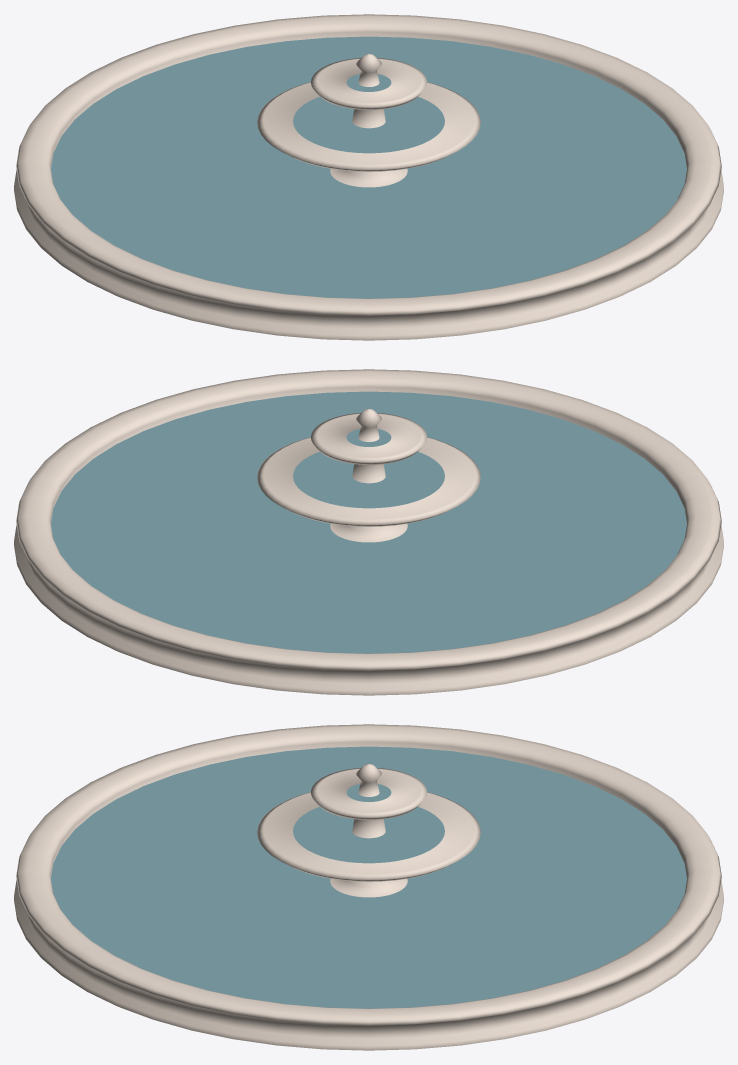
File: fountain.glb
The picture shows the model from 3 angles, top to bottom: view 1: azimuth 30°, elevation 25°; view 2: azimuth 150°, elevation 25°; view 3: azimuth 270°, elevation 25°; orthographic projection.
Visible parts, largest first — view 1: l; view 2: l; view 3: l.
Part boxes in pixels (<box>): l: <box>14,14,723,340</box>; l: <box>14,369,723,695</box>; l: <box>14,724,723,1050</box>.
Size of the model in its own units: 16.5 by 3.5 by 16.5.
